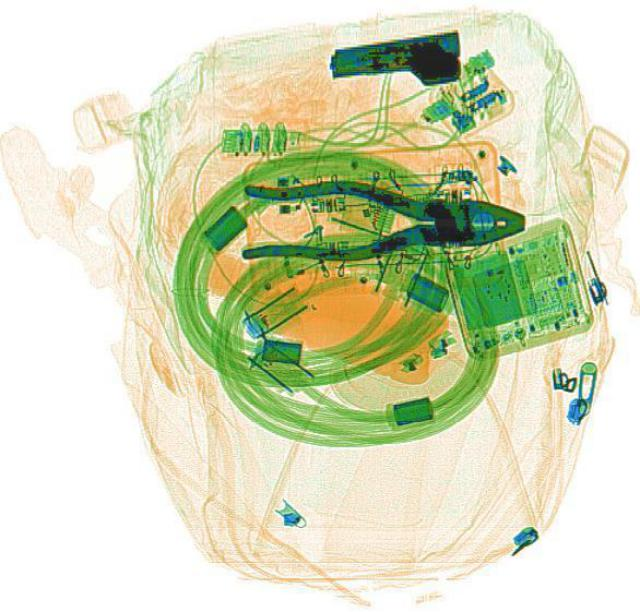Gun: (324, 29, 464, 95)
Pliers: (240, 177, 524, 260)
